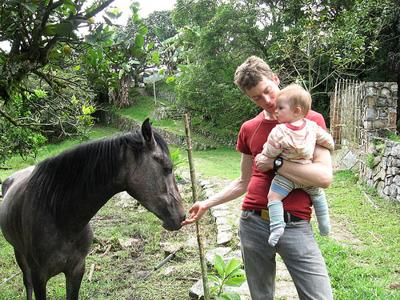person: (184, 56, 336, 300)
